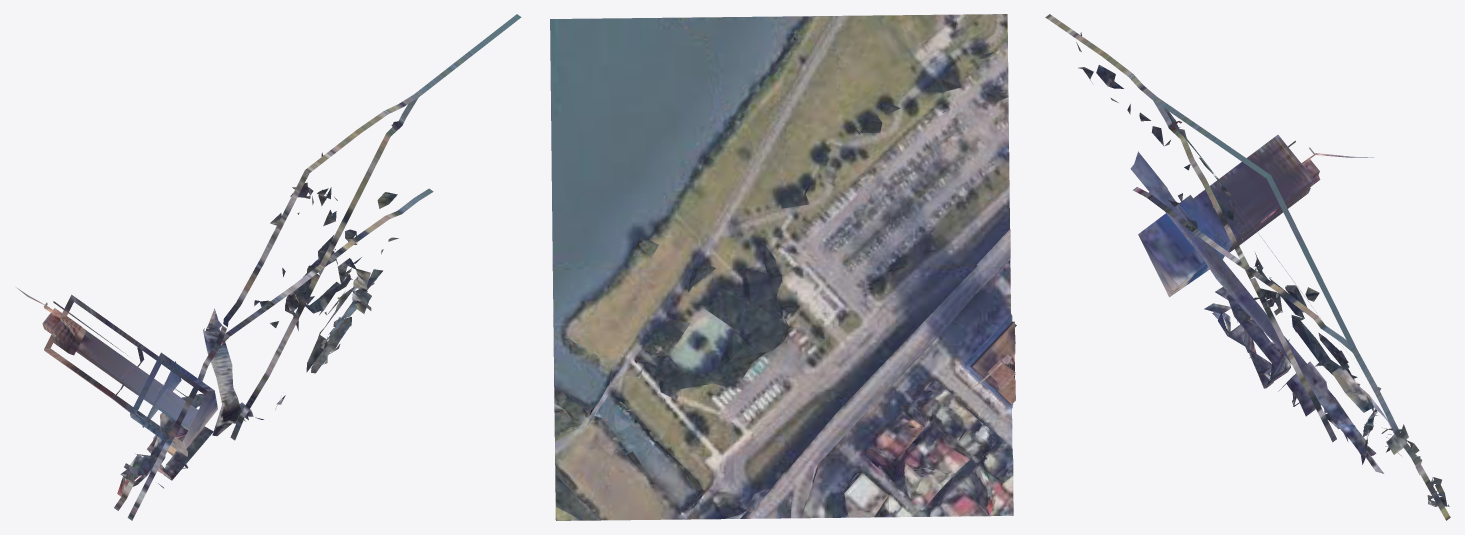
3 renders of one model, left to right at view 1: azimuth 30°, elevation 25°; view 2: azimuth 150°, elevation 25°; view 3: azimuth 270°, elevation 25°, orthographic. The views are drawn at different scales.
Size of the model in its own units: 341 by 279 by 258.
Materials: 2 (2 with a texture image).
